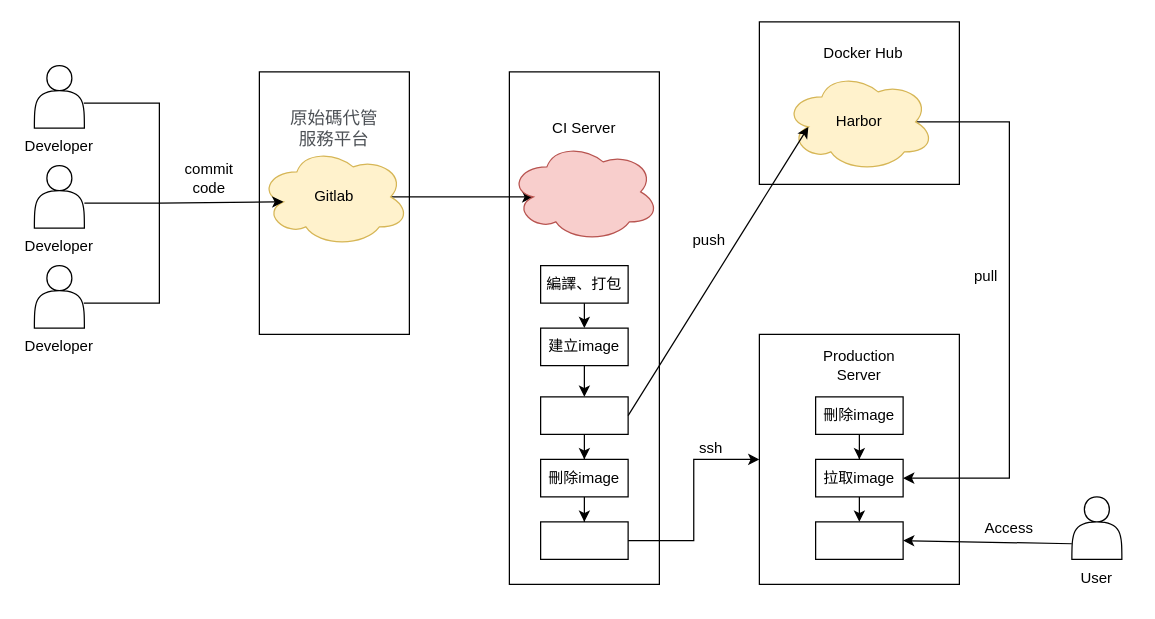
This 1155x619 diagram has some shape labels left out. The shapes that lost their labels are listed below. From the top down, each one's centre as x and y in pixels, then its label:
(x=583, y=191): Jenkins
(x=583, y=415): 上傳image
(x=583, y=540): Deploy
(x=858, y=540): 建立容器
